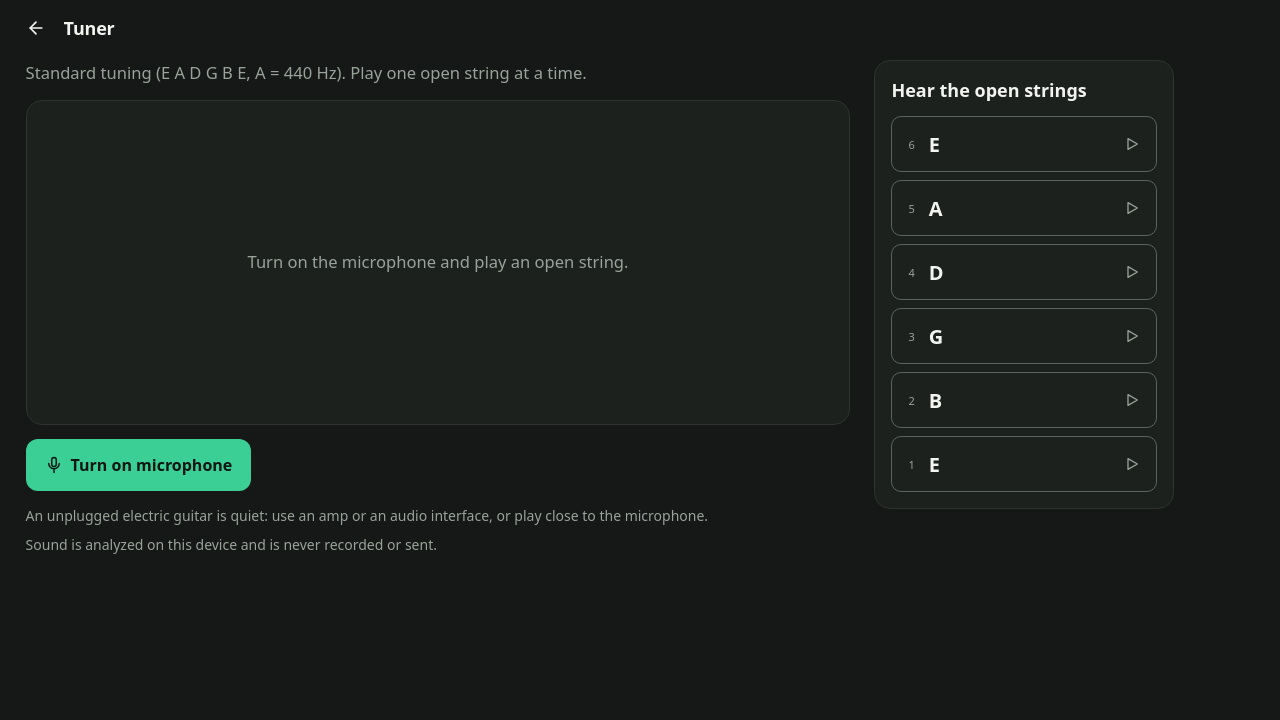
Test: tuner › releases the microphone when audio setup fails
What coordinates should you click on to do the following:
click the button "Turn on microphone"
I would click on:
 (138, 465)
Its box is left=26, top=439, right=251, bottom=491.
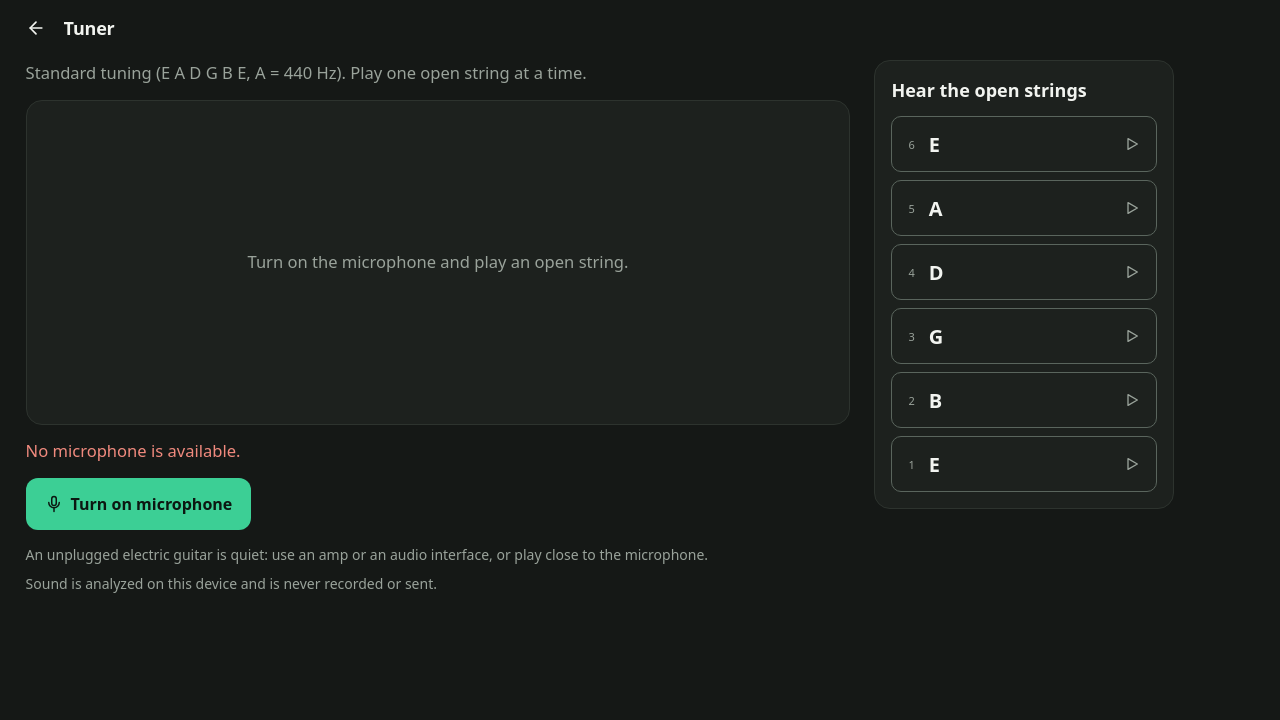
Check: the message "No microphone is available." is shown, box left=26, top=439, right=240, bottom=462
